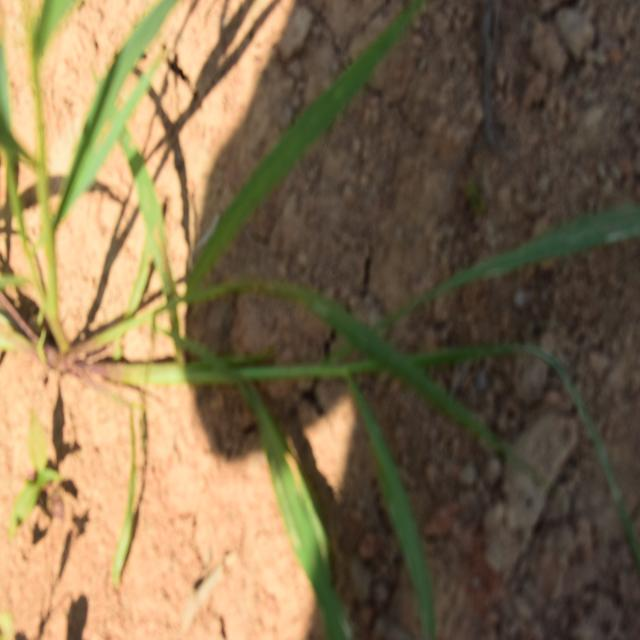green_foxtail: (130, 94, 482, 546)
